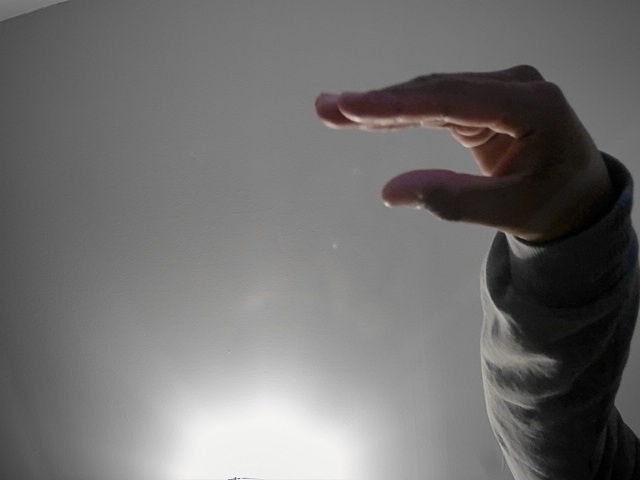No: (290, 56, 635, 251)
